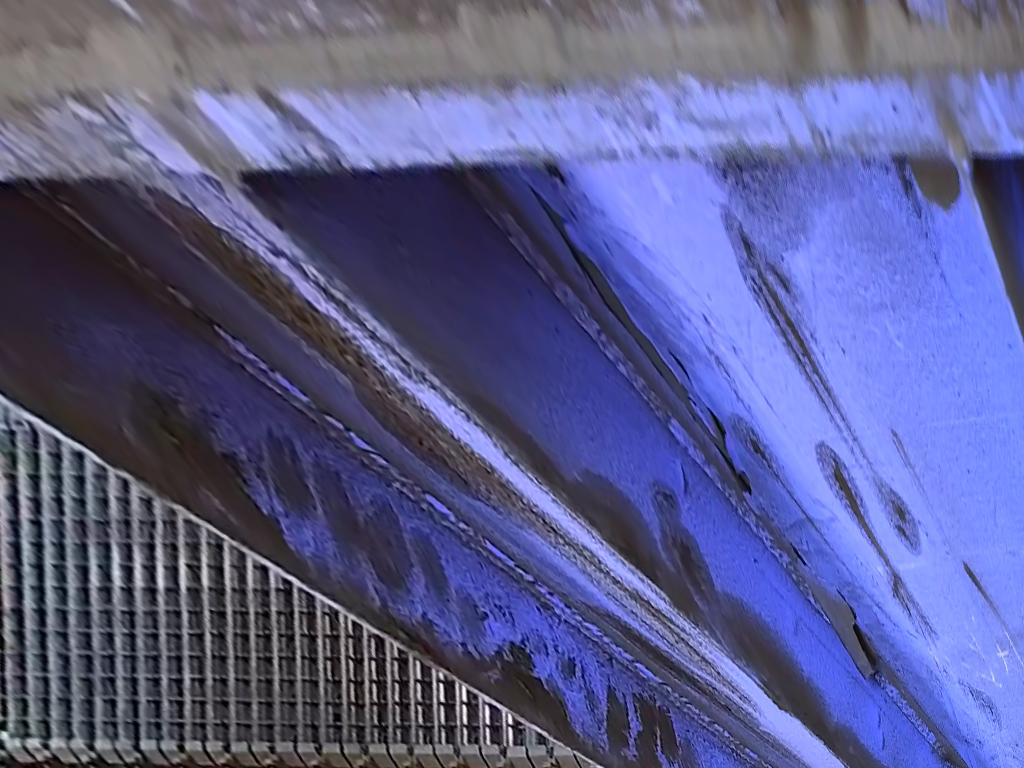cae: (1, 1, 1021, 768)
